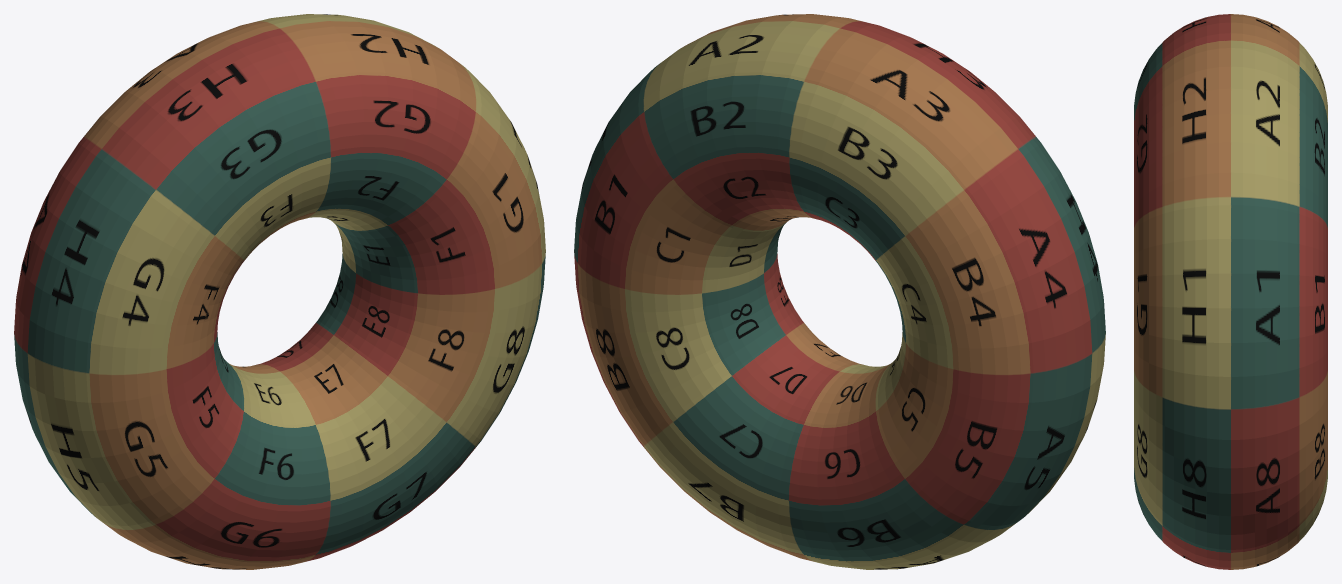
File: texture_torus_R7_r22.glb
The picture shows the model from 3 angles, left to right: view 1: azimuth 30°, elevation 25°; view 2: azimuth 150°, elevation 25°; view 3: azimuth 270°, elevation 25°; orthographic projection. The views are drawn at different scales.
Parts seen in each view (by area): view 1: world; view 2: world; view 3: world.
Boxes of the visible parts, x1=… form: world: x1=14, y1=14, x2=545, y2=569; world: x1=574, y1=14, x2=1105, y2=569; world: x1=1134, y1=14, x2=1327, y2=569.
Bounding box in the file's own units: 22.53 × 22.49 × 7.85.
Materials: 1 (1 with a texture image).
